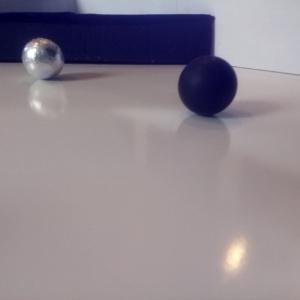zone: (1, 11, 214, 65)
